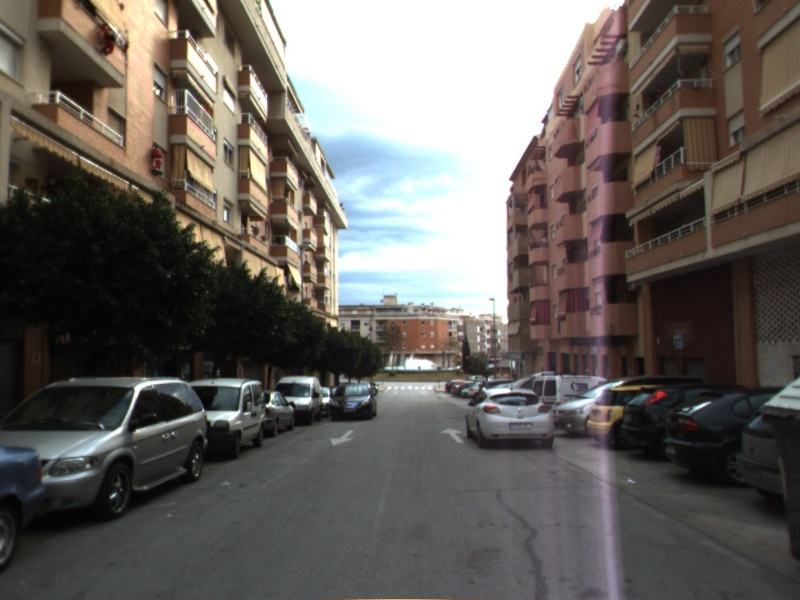STRAIGHT: (438, 426, 466, 445)
